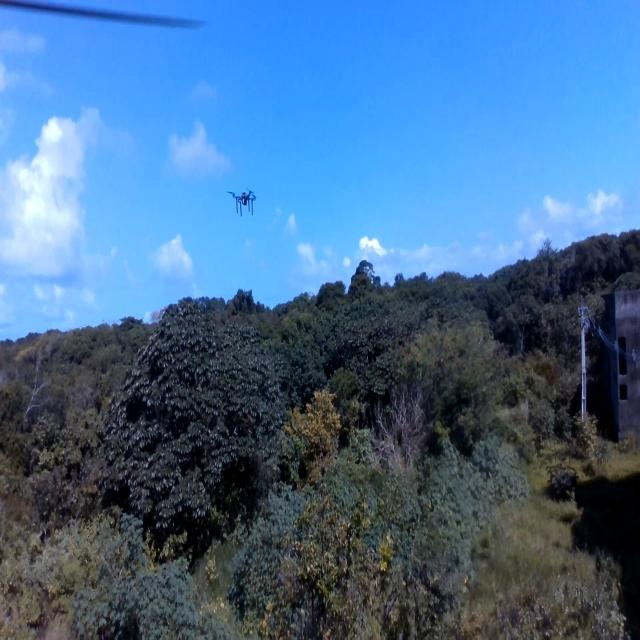-uav-: (222, 176, 265, 230)
